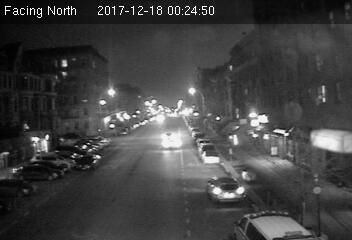car: (205, 174, 247, 204), (75, 153, 100, 169), (202, 151, 219, 163)
police: (228, 206, 321, 239)
